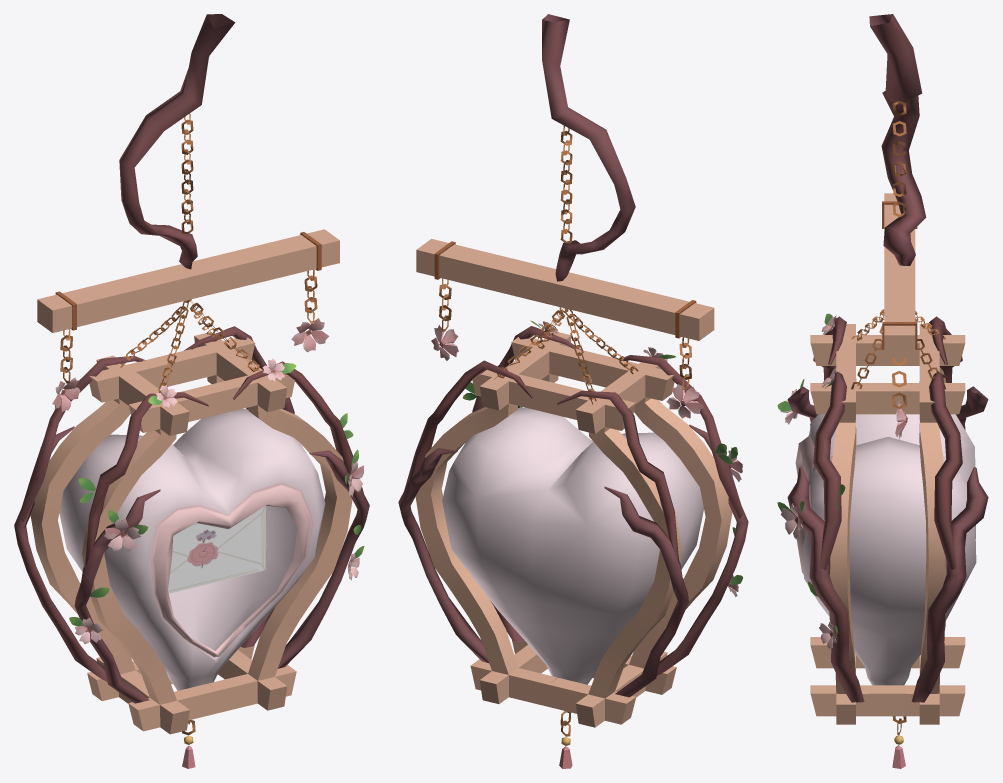
Rendered from prop_cherry_mailbox.fbx.
3 views of the same model, side by side, from view 1: azimuth 30°, elevation 25°; view 2: azimuth 150°, elevation 25°; view 3: azimuth 270°, elevation 25° (orthographic). The views are drawn at different scales.
Parts seen in each view (by area): view 1: Buzon Cerezo Marco madera, Buzon Cerezo corazon, Buzon Cerezo Ramas, Buzon Cerezo barra madera, Buzon Cerezo Rama colgante, Plane, Buzon Cerezo flores, Buzon Cerezo cadena centro, Flor cerezo Buzon arriba, Buzon Cerezo cadena arriba; view 2: Buzon Cerezo corazon, Buzon Cerezo Marco madera, Buzon Cerezo Ramas, Buzon Cerezo barra madera, Buzon Cerezo Rama colgante, Buzon Cerezo cadena centro, Flor cerezo Buzon arriba, Buzon Cerezo flores, Buzon Cerezo cadena arriba; view 3: Buzon Cerezo corazon, Buzon Cerezo Marco madera, Buzon Cerezo Ramas, Buzon Cerezo Rama colgante, Buzon Cerezo barra madera, Buzon Cerezo flores, Buzon Cerezo cadena centro, Buzon Cerezo cadena arriba.
Boxes of the visible parts, left/top/right/bottom form: Buzon Cerezo Marco madera: left=30, top=332, right=352, bottom=734; Buzon Cerezo corazon: left=59, top=409, right=325, bottom=690; Buzon Cerezo Ramas: left=14, top=326, right=369, bottom=703; Buzon Cerezo barra madera: left=37, top=229, right=339, bottom=332; Buzon Cerezo Rama colgante: left=119, top=14, right=235, bottom=269; Plane: left=168, top=505, right=266, bottom=593; Buzon Cerezo flores: left=69, top=358, right=364, bottom=643; Buzon Cerezo cadena centro: left=116, top=299, right=259, bottom=393; Flor cerezo Buzon arriba: left=52, top=318, right=329, bottom=411; Buzon Cerezo cadena arriba: left=181, top=113, right=193, bottom=233; Buzon Cerezo corazon: left=442, top=407, right=703, bottom=684; Buzon Cerezo Marco madera: left=415, top=332, right=732, bottom=727; Buzon Cerezo Ramas: left=398, top=326, right=748, bottom=697; Buzon Cerezo barra madera: left=416, top=238, right=714, bottom=340; Buzon Cerezo Rama colgante: left=542, top=14, right=635, bottom=281; Buzon Cerezo cadena centro: left=494, top=307, right=638, bottom=404; Flor cerezo Buzon arriba: left=431, top=325, right=703, bottom=418; Buzon Cerezo flores: left=463, top=320, right=742, bottom=597; Buzon Cerezo cadena arriba: left=560, top=125, right=572, bottom=243; Buzon Cerezo corazon: left=795, top=414, right=976, bottom=685; Buzon Cerezo Marco madera: left=810, top=324, right=965, bottom=724; Buzon Cerezo Ramas: left=787, top=316, right=988, bottom=702; Buzon Cerezo Rama colgante: left=869, top=14, right=926, bottom=265; Buzon Cerezo barra madera: left=882, top=193, right=917, bottom=357; Buzon Cerezo flores: left=777, top=313, right=845, bottom=649; Buzon Cerezo cadena centro: left=851, top=309, right=945, bottom=389; Buzon Cerezo cadena arriba: left=892, top=101, right=906, bottom=217.
Size of the model in its own units: 50.91 by 124 by 31.14.
Materials: 9 (9 with a texture image).
